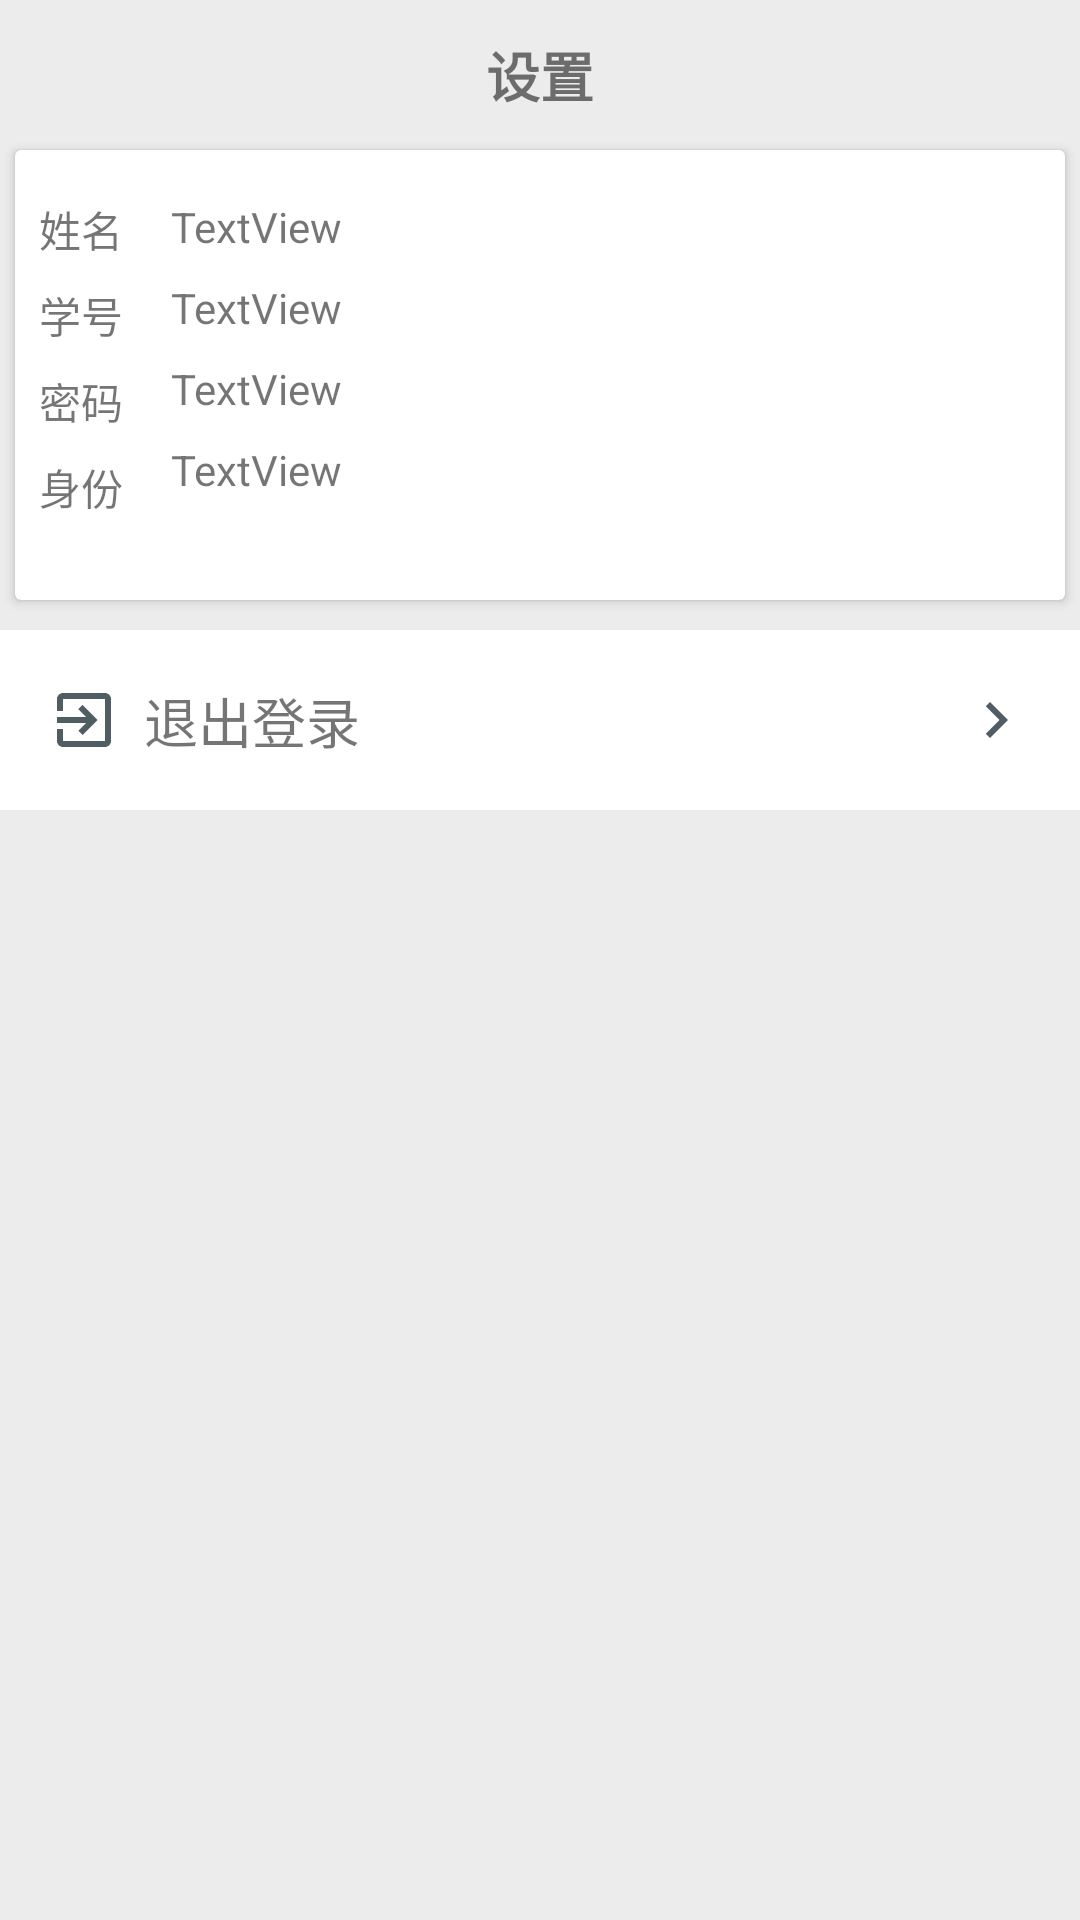

Named icons in this screenshot (1080×1920) and their bounding boxes, [x1,y1,x2,y2]:
chevron right: [986,702,1008,738]
exit to app: [57,693,111,747]
